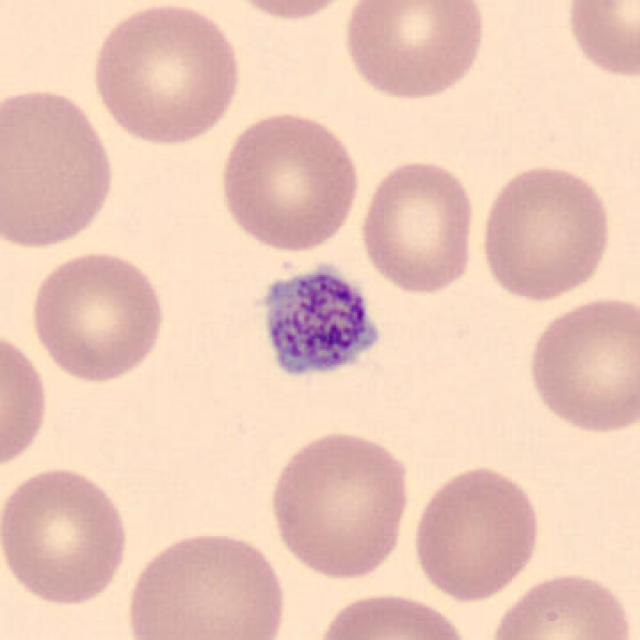Platelets: (249, 254, 391, 395)
RBC: (263, 426, 416, 584), (86, 0, 246, 148), (215, 106, 365, 256), (0, 83, 121, 254), (477, 160, 615, 305), (407, 462, 544, 605), (0, 461, 133, 608), (122, 525, 292, 640), (27, 247, 169, 384), (356, 155, 480, 298), (523, 293, 638, 437), (340, 0, 490, 104), (483, 567, 636, 640), (311, 589, 478, 640), (0, 324, 52, 476), (560, 0, 640, 83), (215, 0, 370, 25)
